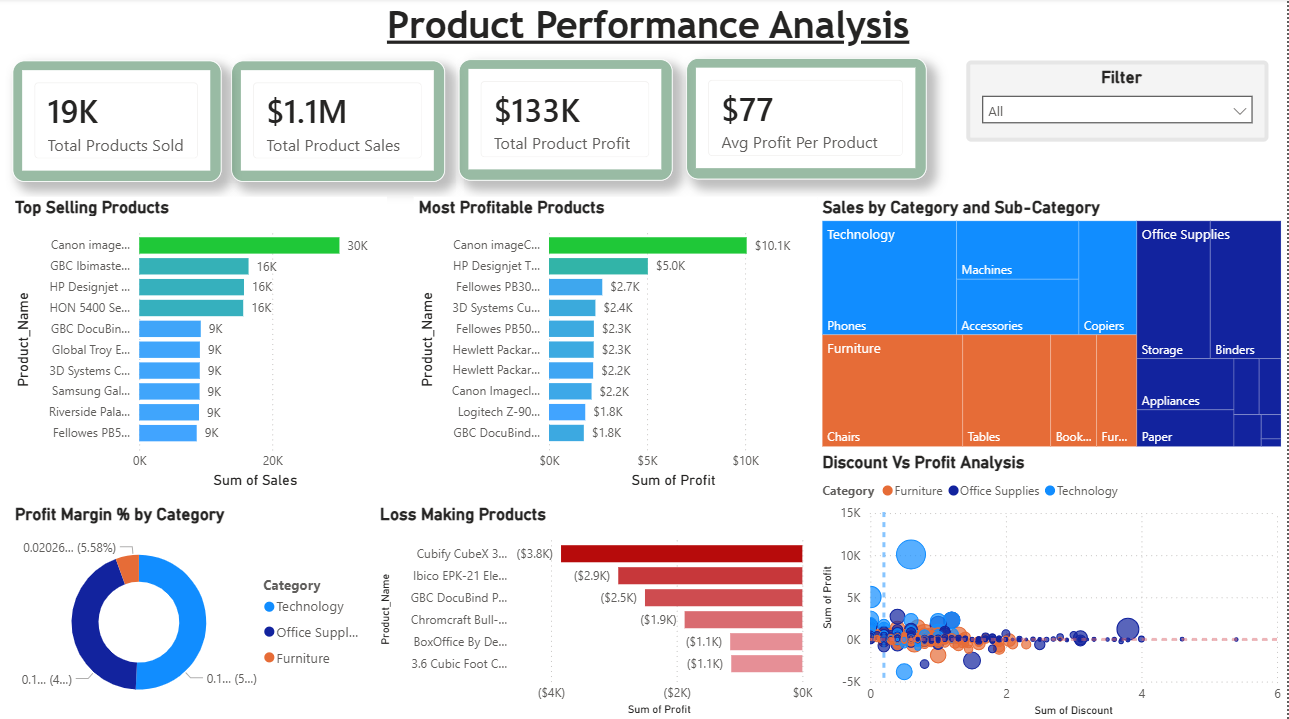

This screenshot's page, from the dashboard's own definition file:
{"tool":"powerbi","page":{"name":"Product Analysis","canvas":[1280,720],"ordinal":1},"visuals":[{"type":"textbox","box":[10,0,1270.1,63.4],"z":0},{"type":"cardVisual","title":"Total Products Sold","fields":{"Data":["Superstore.Total Quantity"]},"box":[12.4,62.2,207.7,120.7],"z":1000},{"type":"cardVisual","fields":{"Data":["Superstore.Total Sales"]},"box":[230.1,62.2,212.7,120.7],"z":2000},{"type":"cardVisual","fields":{"Data":["Superstore.Total Profit"]},"box":[456.5,61,212.7,120.7],"z":3000},{"type":"cardVisual","fields":{"Data":["Superstore.Avg Profit Per Product"]},"box":[682.9,59.7,238.8,120.7],"z":4000},{"type":"clusteredBarChart","title":"Top Selling Products","fields":{"Y":["Sum(Superstore.Sales)"],"Category":["Superstore.Product_Name"]},"box":[10,197.8,375,295],"z":5000},{"type":"barChart","title":"Most Profitable Products","fields":{"Category":["Superstore.Product_Name"],"Y":["Sum(Superstore.Profit)"]},"box":[411.8,197.8,401.8,294.8],"z":6000},{"type":"clusteredBarChart","title":"Loss Making Products","fields":{"Category":["Superstore.Product_Name"],"Y":["Sum(Superstore.Profit)"]},"box":[373.2,503.6,440.5,215.4],"z":7000},{"type":"treemap","title":"Sales by Category and Sub-Category","fields":{"Group":["Superstore.Category"],"Values":["Sum(Superstore.Sales)"],"Details":["Superstore.Sub-Category"]},"box":[813.5,197.8,466.5,253.8],"z":8000},{"type":"donutChart","fields":{"Y":["Superstore.Profit Margin %"],"Category":["Superstore.Category"]},"box":[10,504,363,216],"z":9000},{"type":"slicer","title":"Filter","fields":{"Values":["Superstore.Region","Superstore.Category","Superstore.Sub-Category","Superstore.Segment","Superstore.Order Date Year"]},"box":[961.6,62.2,301,80.9],"z":10000},{"type":"scatterChart","title":"Discount Vs Profit Analysis","fields":{"X":["Sum(Superstore.Discount)"],"Y":["Sum(Superstore.Profit)"],"Size":["Sum(Superstore.Sales)"],"Category":["Superstore.Product_Name"],"Series":["Superstore.Category"]},"box":[813.5,451.6,466.5,268.7],"z":11000}]}

Visuals, with their boxes in screenshot pixels (x1, y1, x2, y2), scaled from the page's 1280x720 canvas onto the 1289x719 screenshot:
textbox: 10, 0, 1288, 63
"Total Products Sold" cardVisual: 12, 62, 222, 183
cardVisual - Superstore.Total Sales: 232, 62, 446, 183
cardVisual - Superstore.Total Profit: 460, 61, 674, 181
cardVisual - Superstore.Avg Profit Per Product: 688, 60, 928, 180
"Top Selling Products" clusteredBarChart: 10, 198, 388, 492
"Most Profitable Products" barChart: 415, 198, 819, 492
"Loss Making Products" clusteredBarChart: 376, 503, 819, 718
"Sales by Category and Sub-Category" treemap: 819, 198, 1288, 451
donutChart - Superstore.Profit Margin % x Superstore.Category: 10, 503, 376, 718
"Filter" slicer: 968, 62, 1271, 143
"Discount Vs Profit Analysis" scatterChart: 819, 451, 1288, 718
